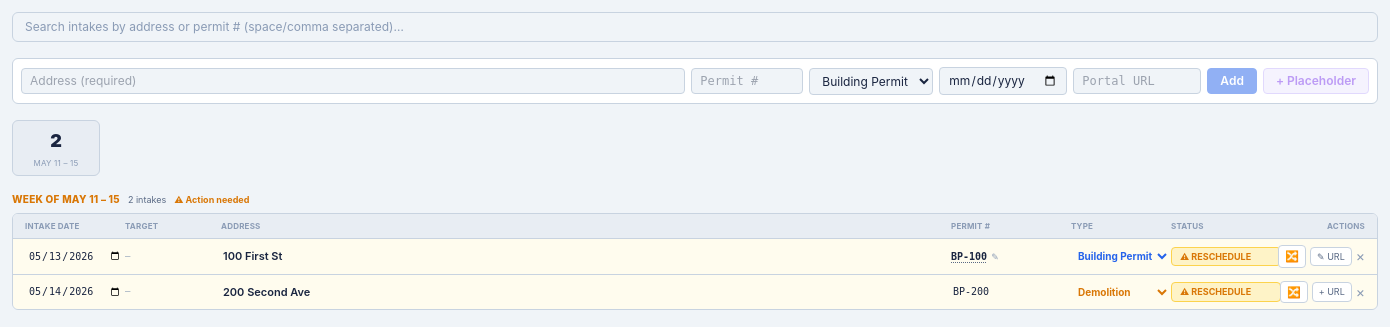
Test: <IntakeTracker /> Q6.3.c editor › Add form: Add disabled when address is empty
Expected: the button with test id "intake-add-real" is disabled, [1207,68,1257,94]
Type "x" into the field with test id "intake-add-address".
click(353, 81); type("x")  # box [21,68,685,94]
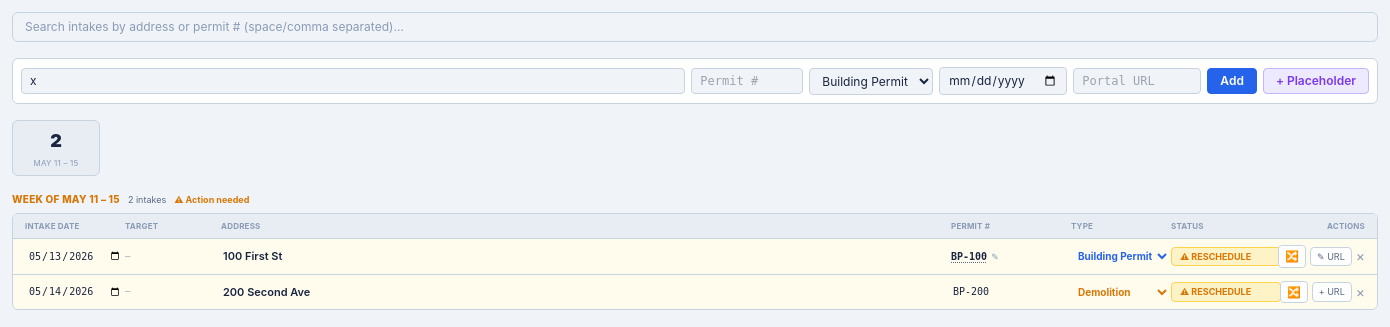
Now the button with test id "intake-add-real" is enabled, box [1207,68,1257,94]
